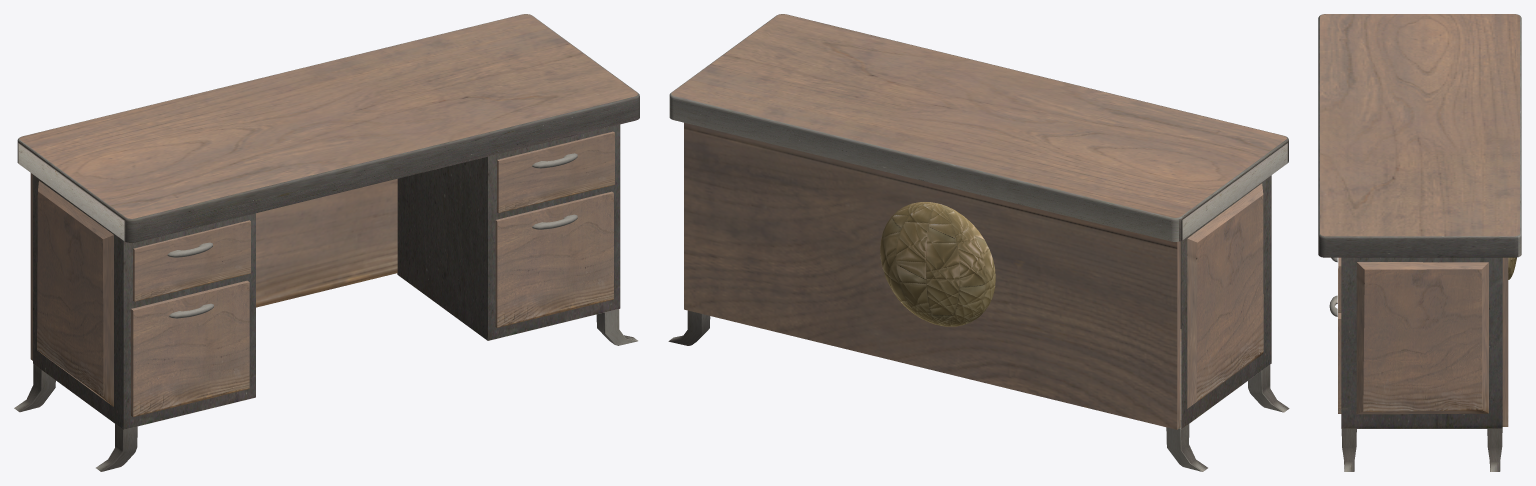
The model's file is Principal_Desk.fbx.
3 renders of one model, left to right at view 1: azimuth 30°, elevation 25°; view 2: azimuth 150°, elevation 25°; view 3: azimuth 270°, elevation 25°, orthographic. The views are drawn at different scales.
Parts seen in each view (by area): view 1: table_top, pCube4, back_wall, left_fancy_side, left_lower_drawer, right_lower_drawer, pCube3, right_upper_drawer, left_uppper_drawer, leg1, leg2, leg3; view 2: back_wall, table_top, left_fancy_side, pSphere1, pCube3, leg2, leg1, leg4; view 3: table_top, left_fancy_side1, pCube4, back_wall, leg4, leg3, right_lower_drawer.
Boxes of the visible parts, box(x1,y1,x2,y2) form: table_top: box(17, 14, 639, 242); pCube4: box(397, 124, 620, 340); back_wall: box(30, 173, 397, 360); left_fancy_side: box(37, 181, 113, 406); left_lower_drawer: box(131, 280, 249, 417); right_lower_drawer: box(495, 191, 613, 327); pCube3: box(33, 174, 255, 429); right_upper_drawer: box(497, 131, 614, 213); left_uppper_drawer: box(133, 220, 250, 301); leg1: box(96, 424, 137, 471); leg2: box(14, 364, 55, 412); leg3: box(596, 309, 637, 345); back_wall: box(684, 122, 1180, 429); table_top: box(669, 14, 1288, 241); left_fancy_side: box(1187, 183, 1263, 408); pSphere1: box(880, 202, 995, 326); pCube3: box(1180, 175, 1271, 429); leg2: box(1166, 420, 1207, 471); leg1: box(1248, 365, 1289, 412); leg4: box(668, 310, 710, 345); table_top: box(1318, 14, 1521, 257); left_fancy_side1: box(1356, 262, 1488, 414); pCube4: box(1341, 257, 1502, 428); back_wall: box(1502, 257, 1508, 426); leg4: box(1487, 429, 1502, 471); leg3: box(1341, 429, 1356, 471); right_lower_drawer: box(1338, 268, 1341, 413).
Bounding box in the file's own units: 1.74 × 0.8027 × 0.6412.
3 materials, 3 textured.
